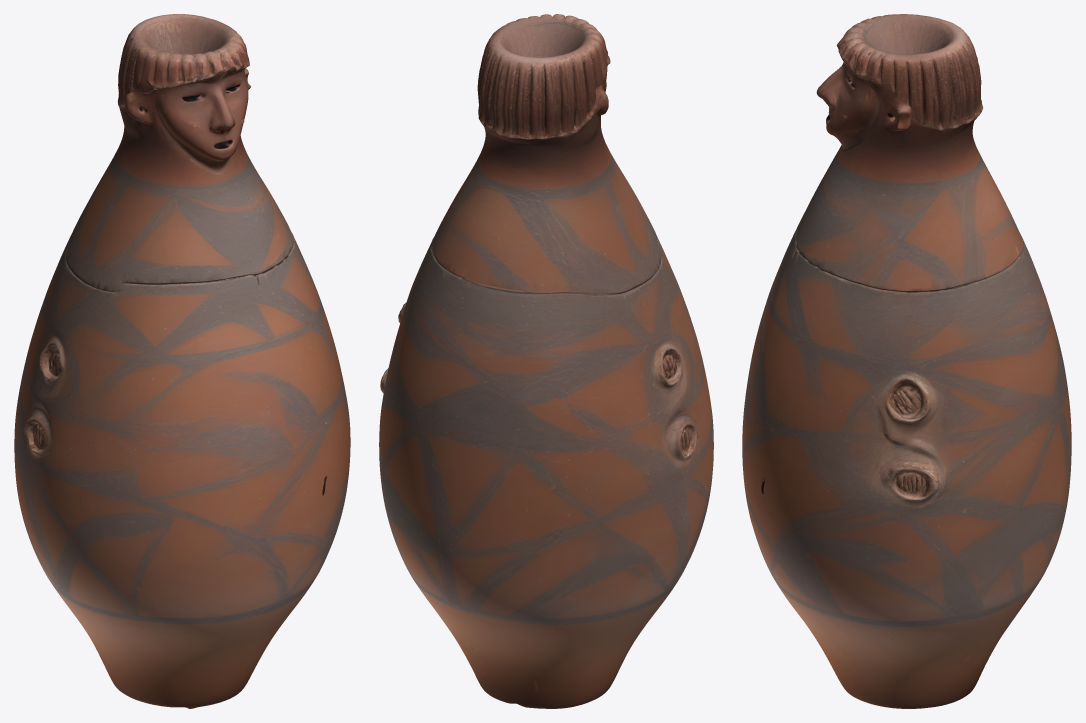
File: rentouxingqikoucaitaopingB.glb
3 renders of one model, left to right at view 1: azimuth 30°, elevation 25°; view 2: azimuth 150°, elevation 25°; view 3: azimuth 270°, elevation 25°, orthographic.
Visible parts, largest first — view 1: node_0; view 2: node_0; view 3: node_0.
Part boxes in pixels (left/top/right/bottom): node_0: left=14, top=14, right=350, bottom=708; node_0: left=379, top=14, right=713, bottom=708; node_0: left=742, top=14, right=1071, bottom=708.
Size of the model in its own units: 0.5704 by 1.18 by 0.5401.
Materials: 1 (1 with a texture image).
